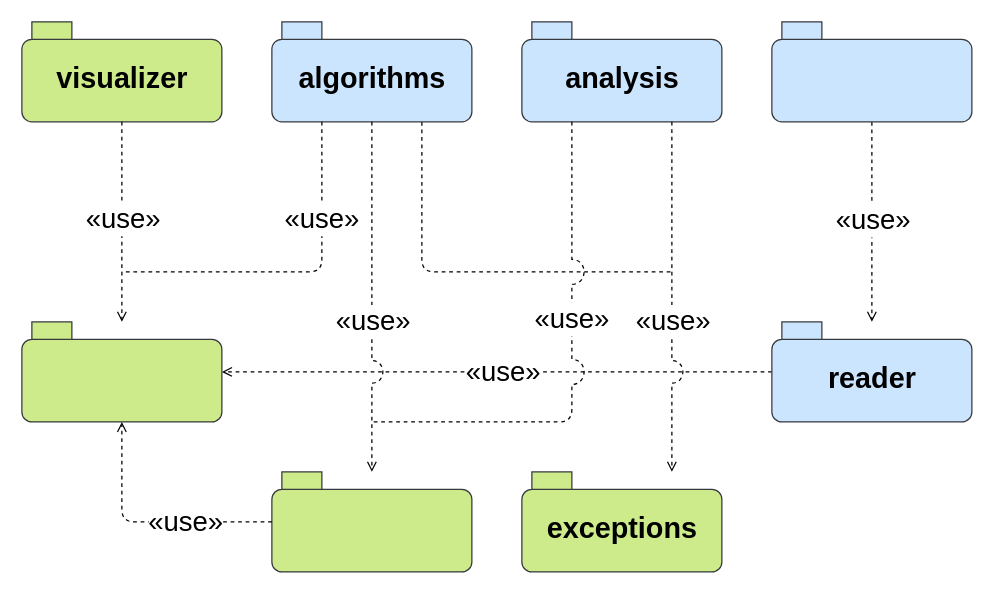
The diagram is 994 pixels wide and 595 high, and some of its shapes have lost their labels. The centre of each missing label's shape, as x and y in pixels:
"applications" belongs at point 871,71.
"input validation" belongs at point 121,371.
"utils" belongs at point 371,521.
